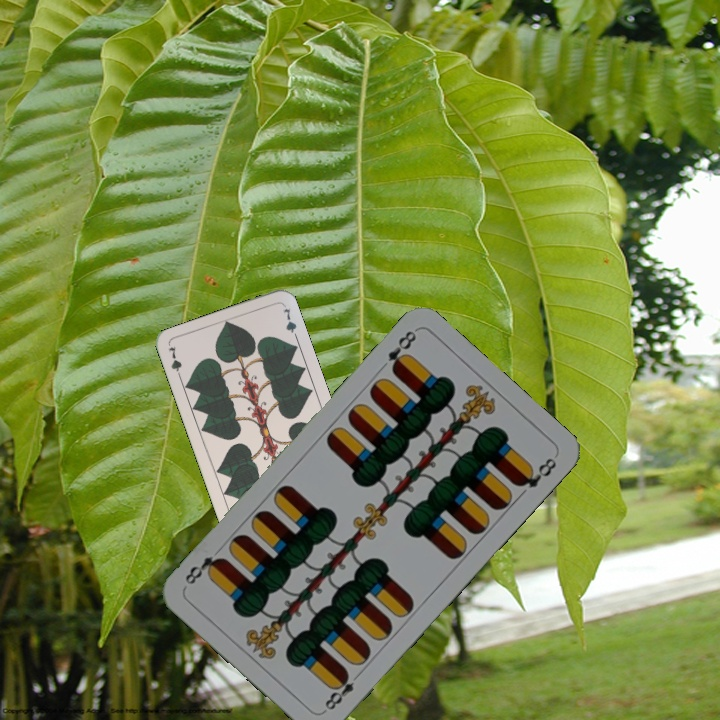E8: (319, 667, 365, 715), (383, 326, 419, 376)
G7: (164, 342, 184, 383)
